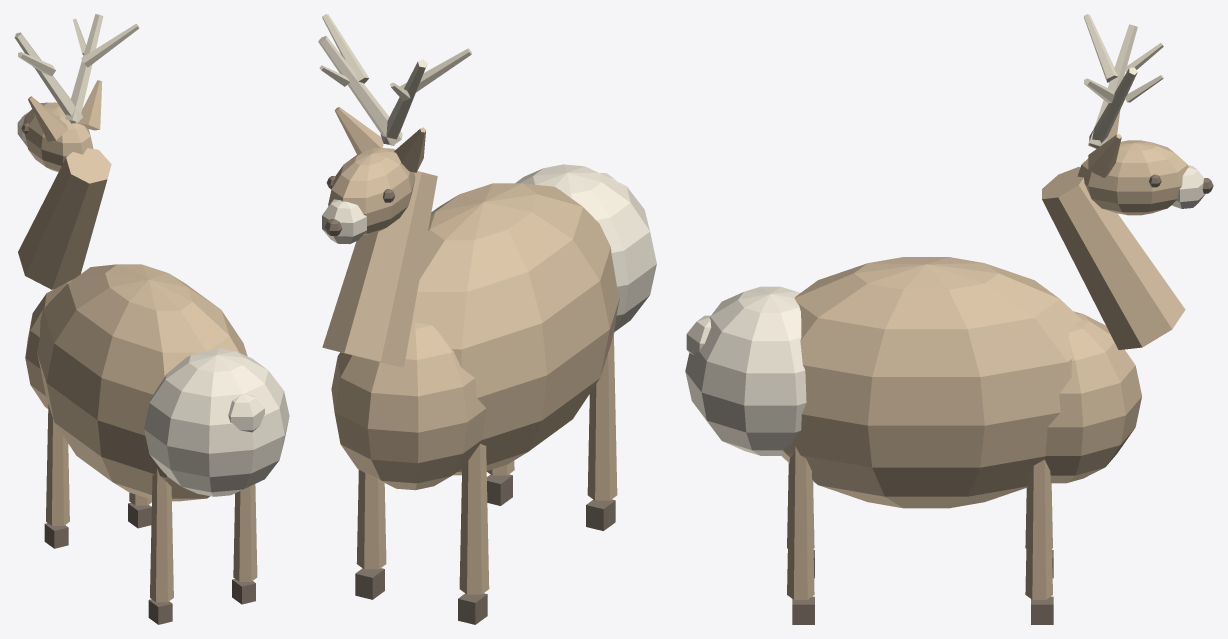
The model's file is deer.glb.
3 views of the same model, side by side, from view 1: azimuth 30°, elevation 25°; view 2: azimuth 150°, elevation 25°; view 3: azimuth 270°, elevation 25° (orthographic). The views are drawn at different scales.
Visible parts, largest first — view 1: body, neck, legBL, antlers, legFL, legBR, legFR; view 2: body, neck, legFL, antlers, legBL, legFR, legBR; view 3: body, neck, legBR, legFR, antlers.
Part boxes in pixels (box(x1,y1,x2,y2)): body: box(25, 264, 289, 501); neck: box(17, 80, 111, 289); legBL: box(148, 468, 173, 624); antlers: box(14, 14, 139, 123); legFL: box(44, 404, 69, 548); legBR: box(232, 484, 257, 604); legFR: box(128, 492, 151, 528); body: box(331, 164, 656, 490); neck: box(322, 107, 437, 367); legFL: box(458, 443, 489, 624); antlers: box(318, 14, 471, 145); legBL: box(586, 332, 617, 530); legFR: box(355, 470, 386, 599); legBR: box(487, 461, 514, 505); body: box(685, 257, 1141, 508); neck: box(1042, 110, 1213, 349); legBR: box(787, 446, 814, 624); legFR: box(1025, 459, 1053, 624); antlers: box(1084, 14, 1163, 148).
Bounding box in the file's own units: 0.8111 × 2.42 × 2.1.
